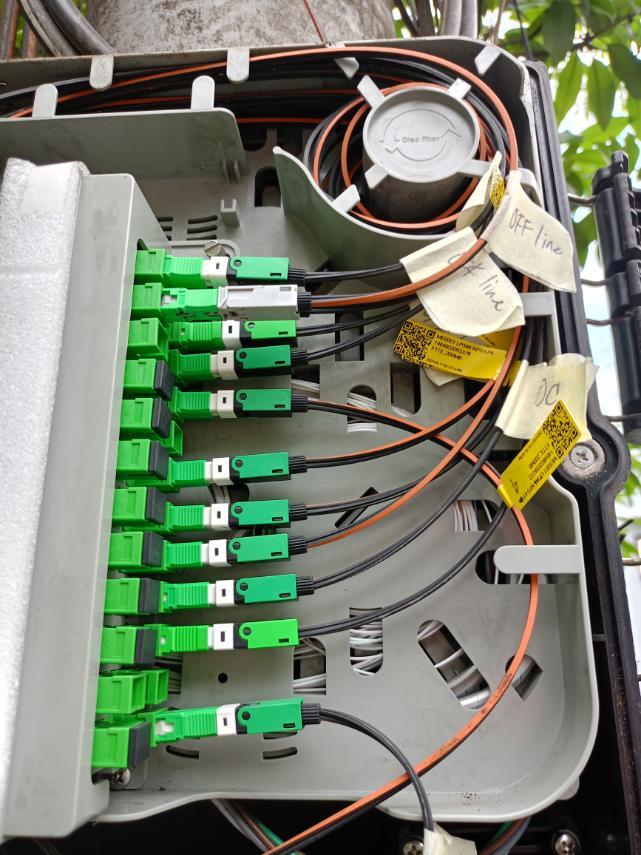no dust cap: (130, 674, 148, 712), (155, 668, 169, 705), (157, 322, 169, 358), (172, 423, 184, 454)
occupied: (160, 284, 322, 323), (162, 251, 320, 290), (180, 343, 317, 381), (167, 576, 304, 614), (169, 702, 305, 740), (183, 288, 320, 325), (168, 531, 305, 568), (167, 619, 304, 656), (180, 310, 316, 347), (177, 382, 313, 419), (174, 452, 310, 489), (170, 497, 306, 534)
vacant: (156, 360, 175, 401), (134, 723, 151, 767), (154, 397, 172, 437), (136, 631, 158, 663), (151, 441, 169, 479), (143, 579, 161, 614), (150, 488, 166, 527), (147, 532, 164, 567)
